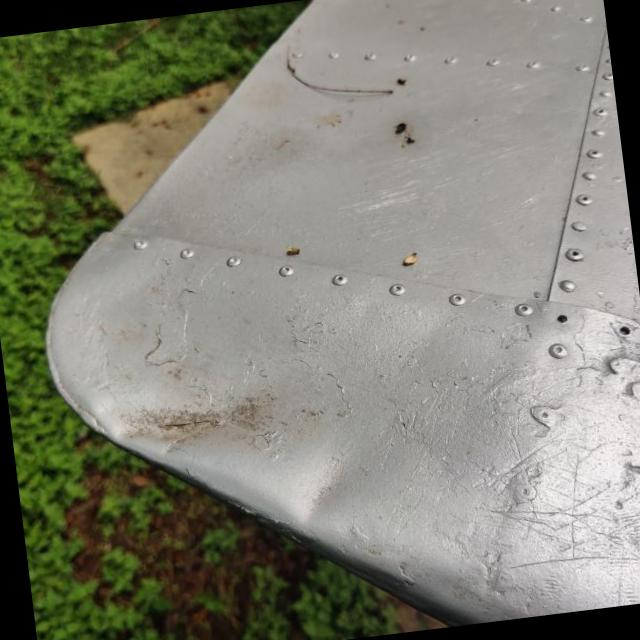Dent: (244, 412, 384, 568)
Scratch: (517, 409, 640, 606)
